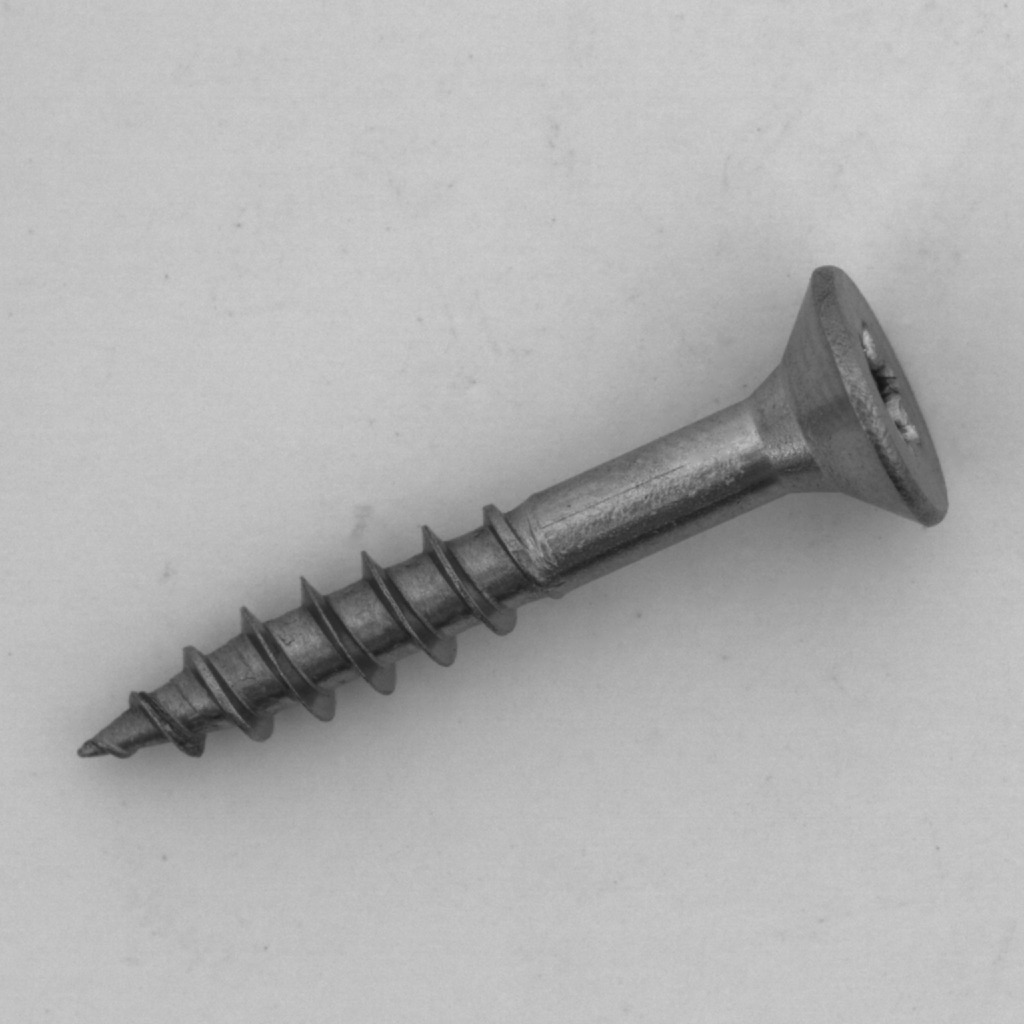good: (51, 251, 968, 781)
